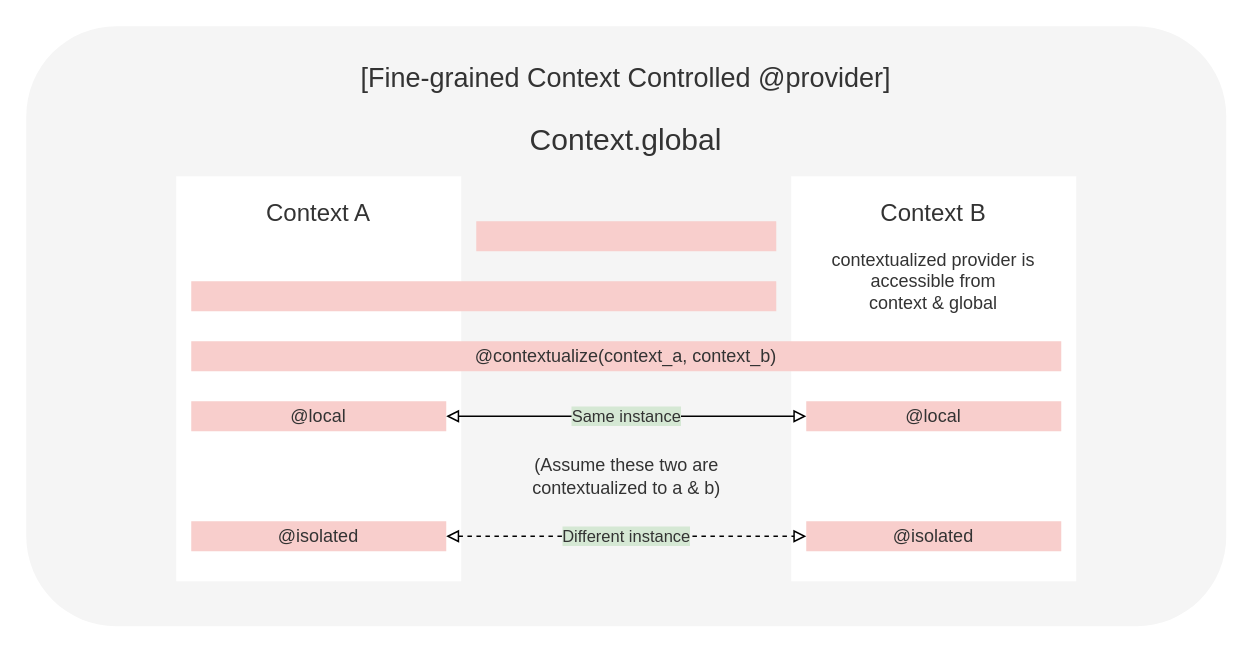
The diagram is 1251 pixels wide and 651 high, and some of its shapes have lost their labels. Each missing label, with the box of its shape:
@contextualize(context_a): (190, 280, 776, 310)
Default @provider: (476, 220, 776, 250)
